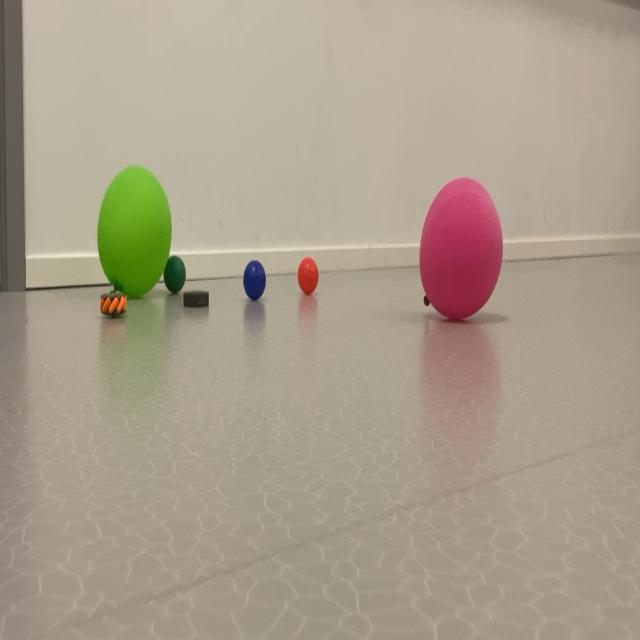7: (283, 223, 334, 352)
green ball: (232, 240, 276, 332)
red ball: (158, 233, 196, 305)
